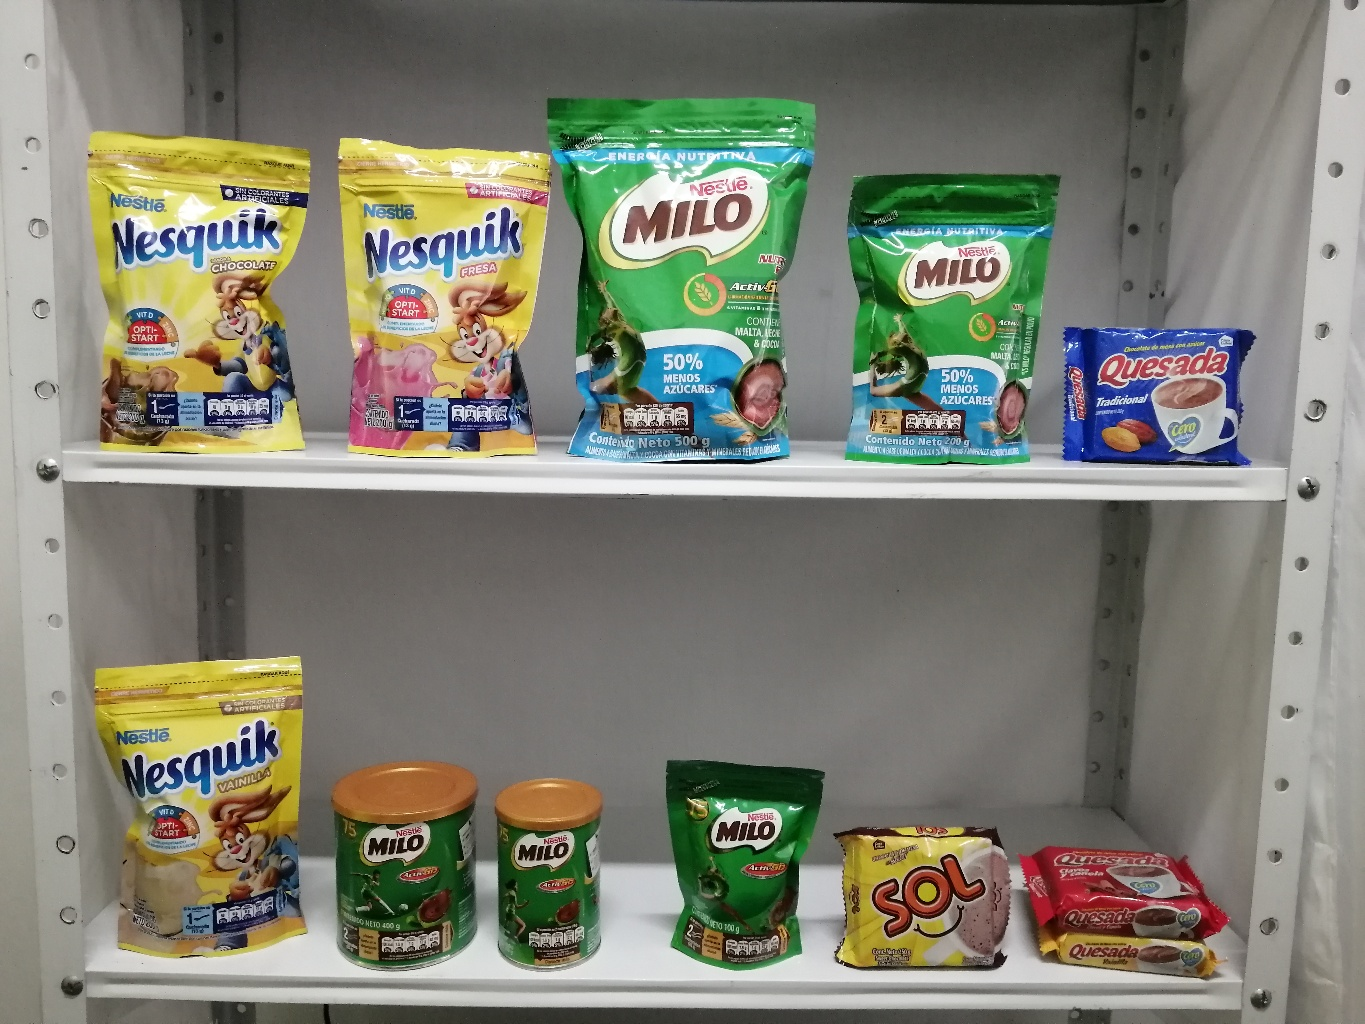COL0170203DYP10000: (654, 749, 828, 973)
COL0170203LAT20000: (479, 768, 616, 975)
COL0170203LAT40000: (323, 753, 489, 973)
COL0170205DYP20000: (837, 163, 1068, 475)
COL0170205DYP50000: (534, 84, 826, 468)
COL0170303DYP20000: (74, 124, 317, 459)
COL0170305DYP20000: (322, 123, 546, 468)
COL0170306DYP20000: (81, 644, 316, 970)
